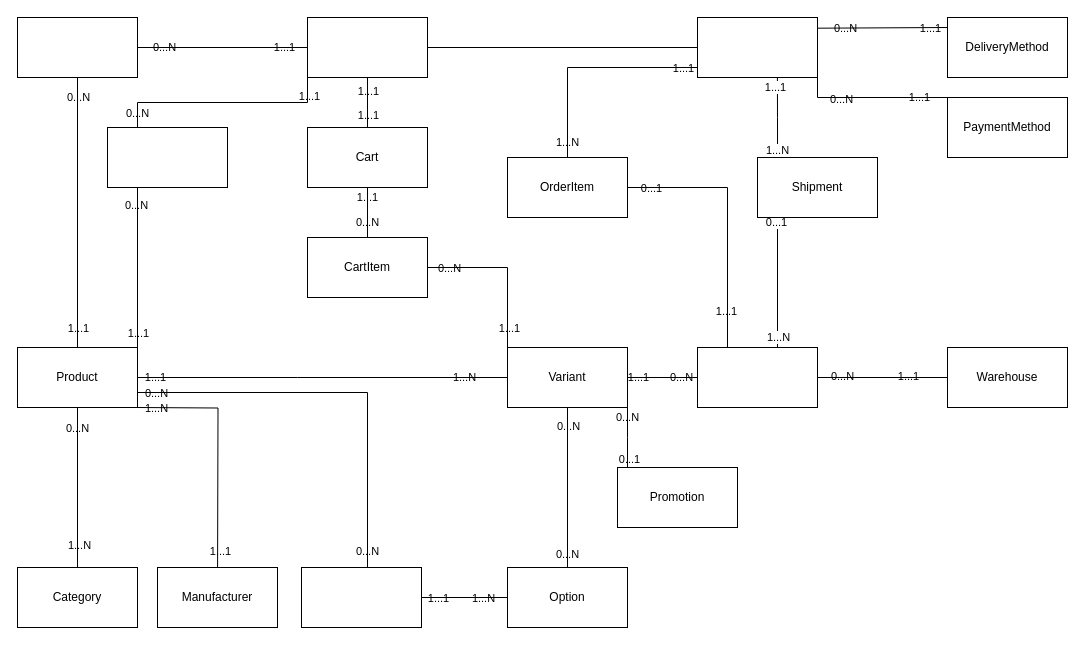
This 1085x645 diagram has some shape labels left out. The centre of each missing label's shape, as x and y in pixels:
Attribute: [361,597]
FavoriteProduct: [167,157]
Order: [757,47]
Review: [77,47]
StockItem: [757,377]
User: [367,47]
